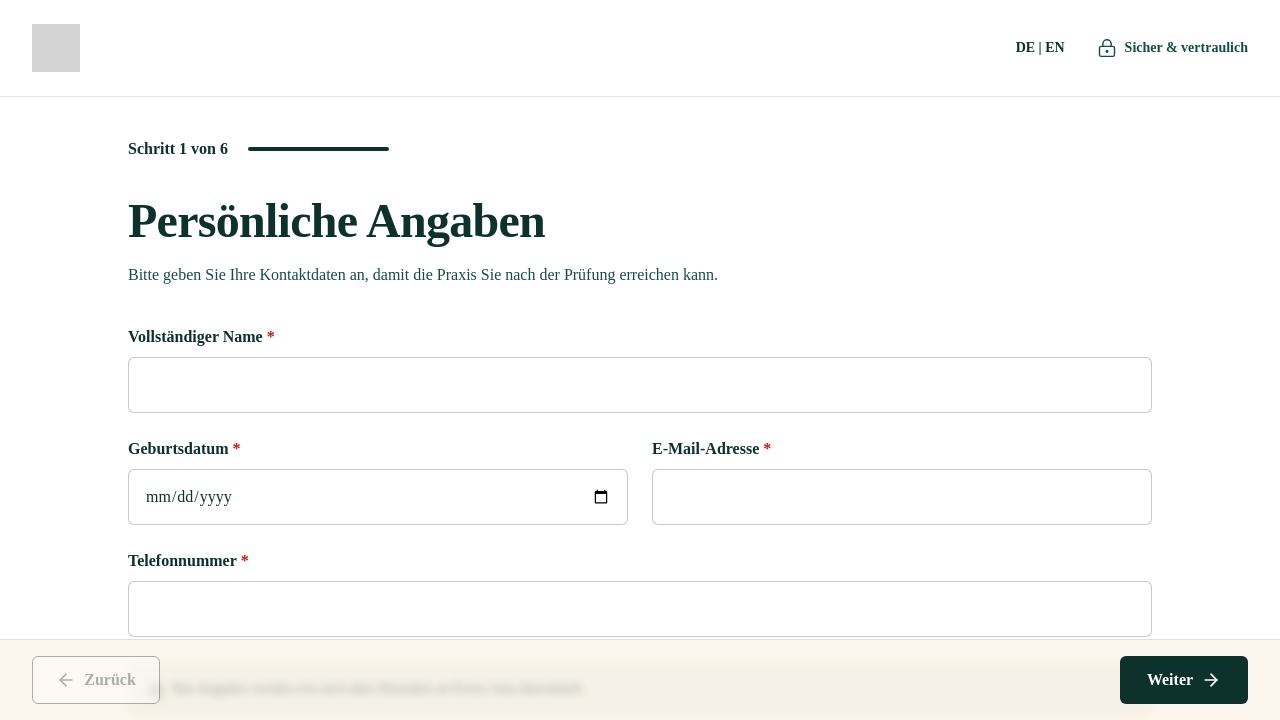
Test: GLP-1 public pages › stops a minor on the first questionnaire step
Step 1. Type "Minor Patient" into the field labelled "Vollständiger Name" → (640,385), box left=128, top=357, right=1152, bottom=413
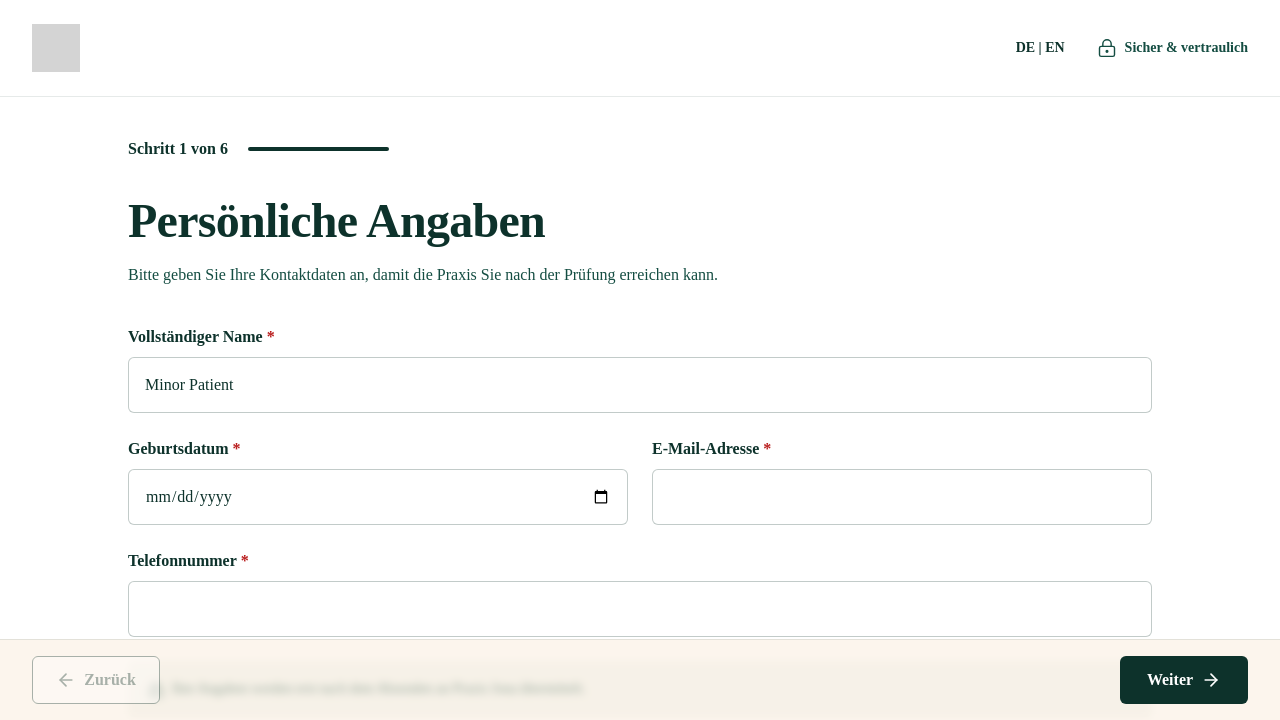
Step 2. Type "2012-01-01" into the date field labelled "Geburtsdatum" → (378,497), box left=128, top=469, right=628, bottom=525
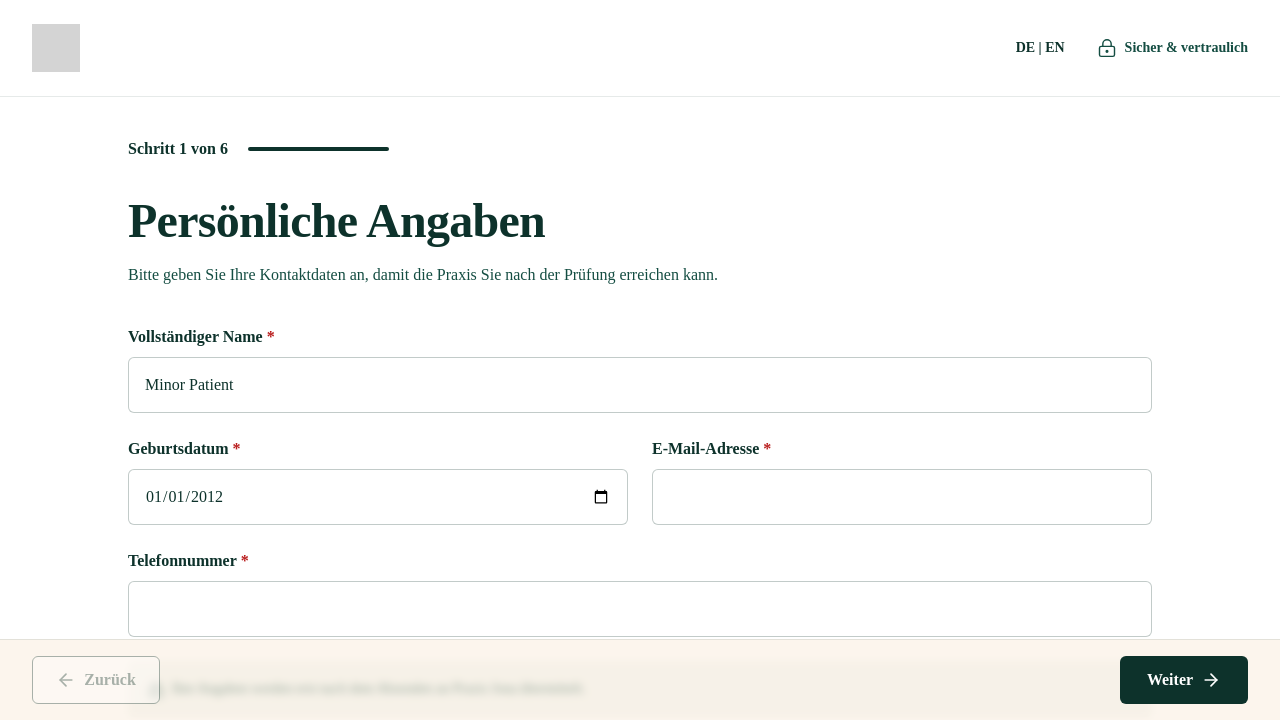
Step 3. Type "minor@example.com" into the field labelled "E-Mail-Adresse" → (902,497), box left=652, top=469, right=1152, bottom=525
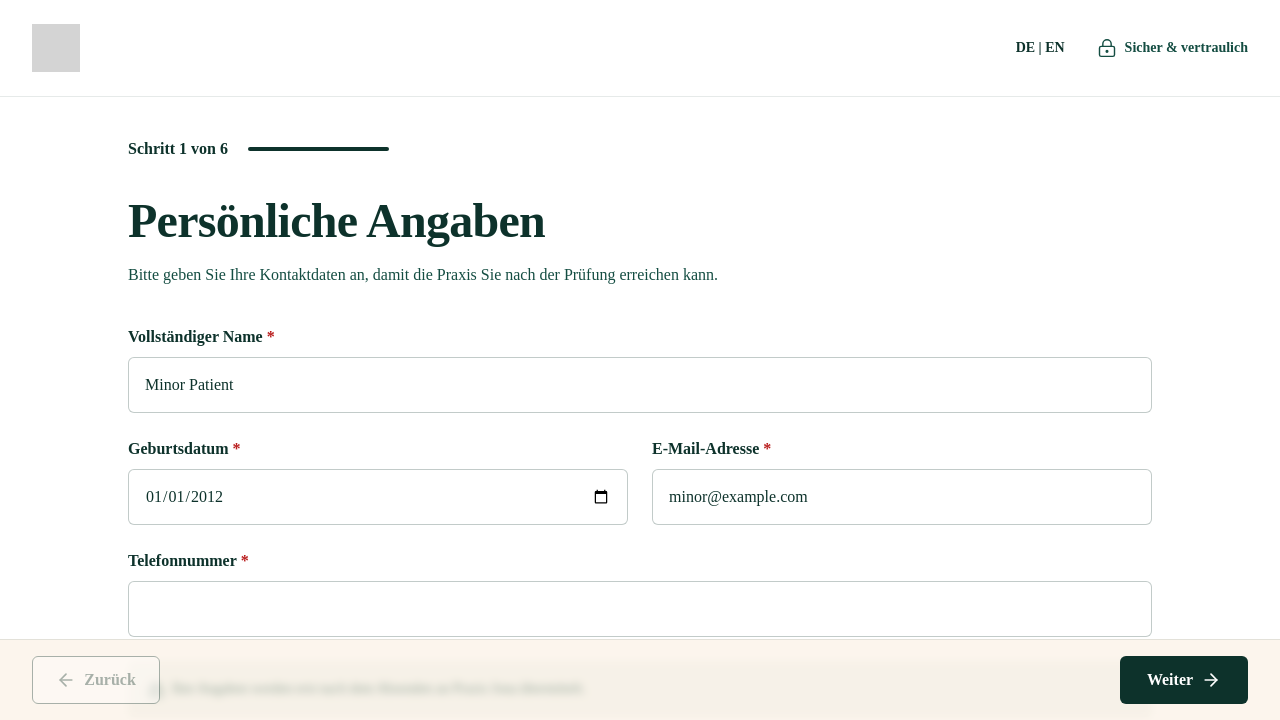
Step 4. Type "+49 30 123456" into the field labelled "Telefonnummer" → (640,609), box left=128, top=581, right=1152, bottom=637
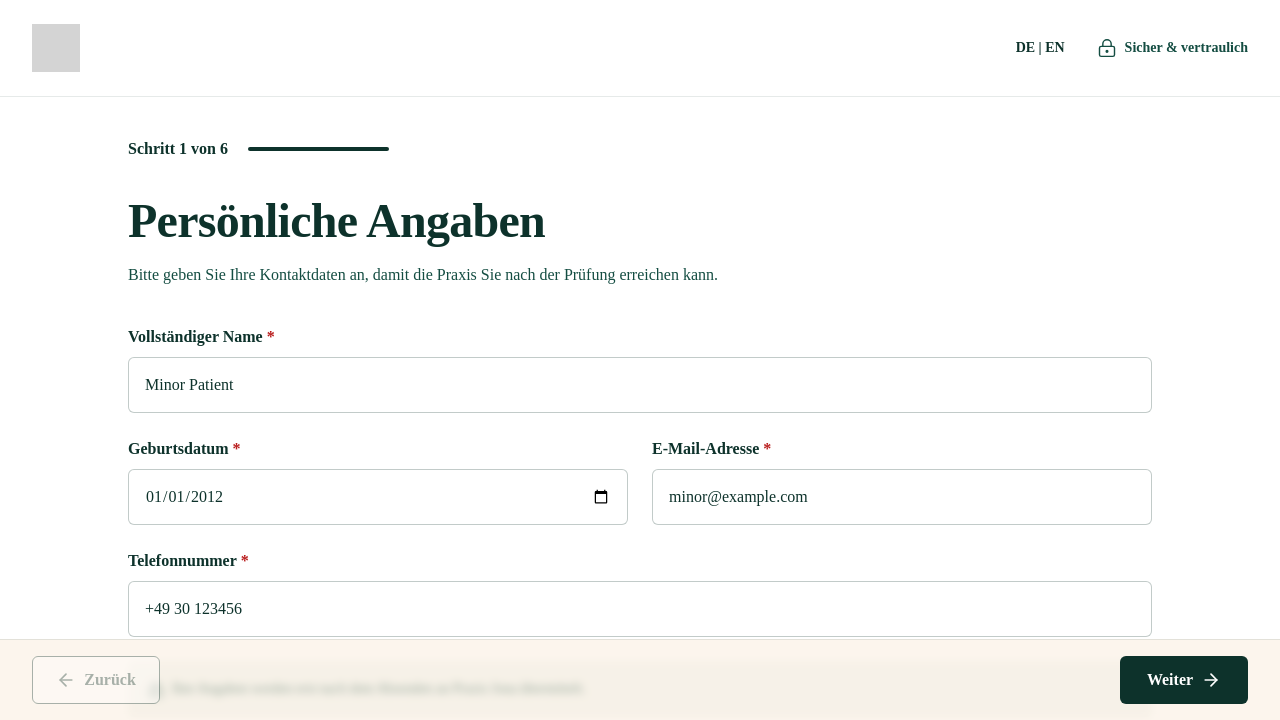
Step 5. Click the button "Weiter" → (1184,680), box left=1120, top=656, right=1248, bottom=704
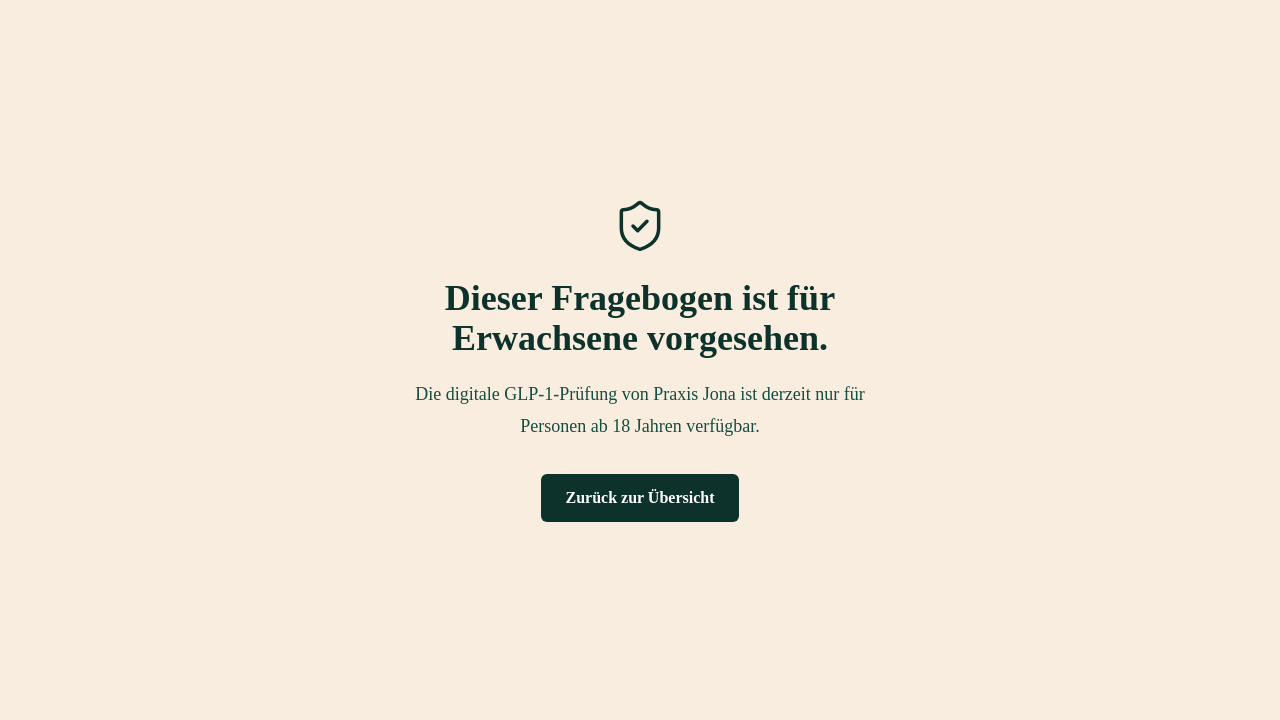
Now the heading "Dieser Fragebogen ist für Erwachsene vorgesehen." is shown, box left=445, top=278, right=835, bottom=358
Now the text "nur für Personen ab 18 Jahren" is shown, box left=415, top=384, right=865, bottom=436
